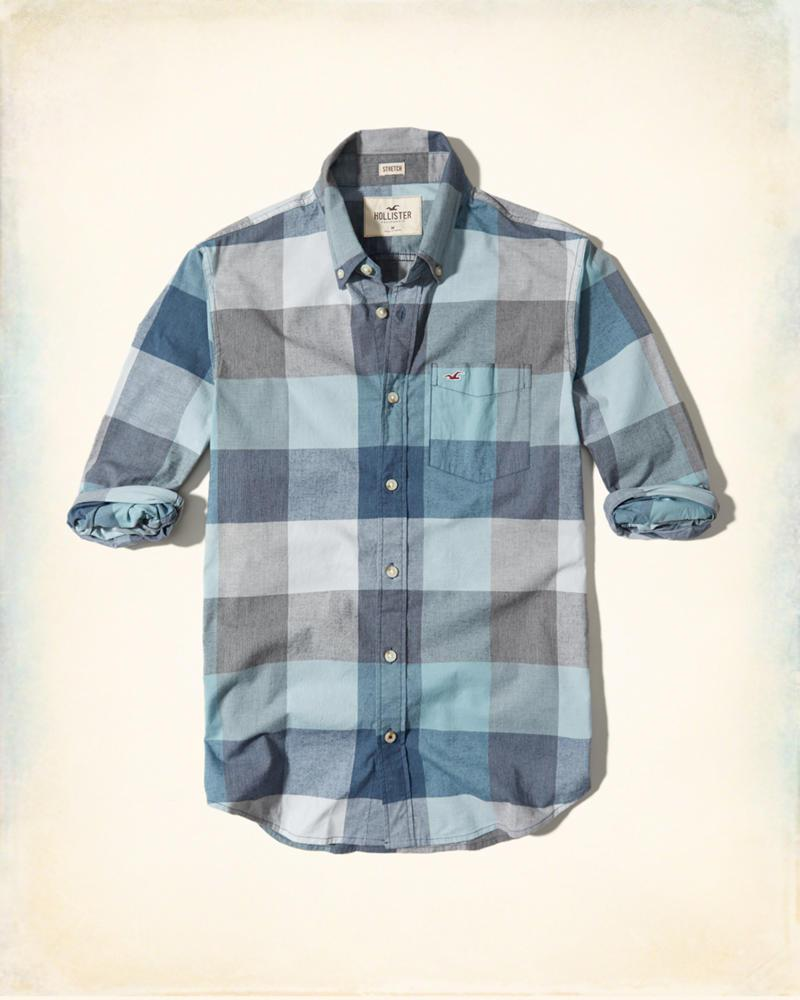teeshirt: (74, 121, 739, 851)
